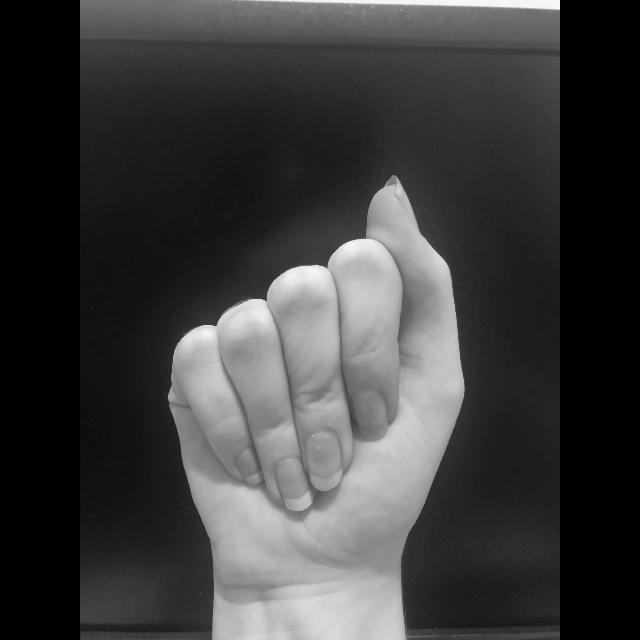A: (156, 168, 476, 600)
